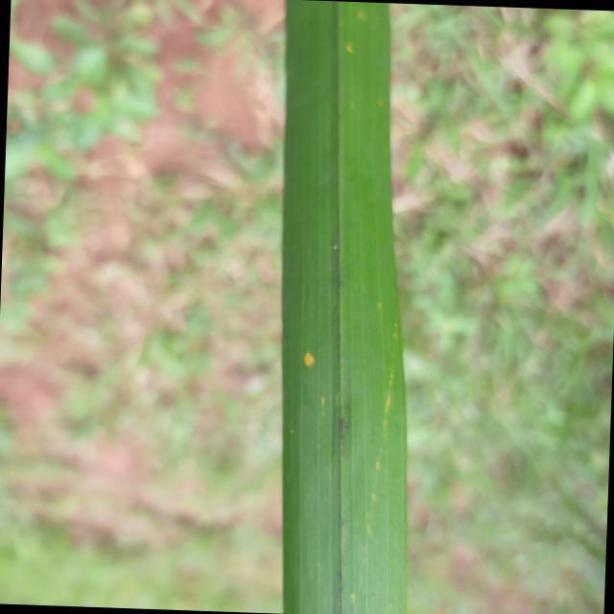Kalium: (281, 1, 410, 614)
